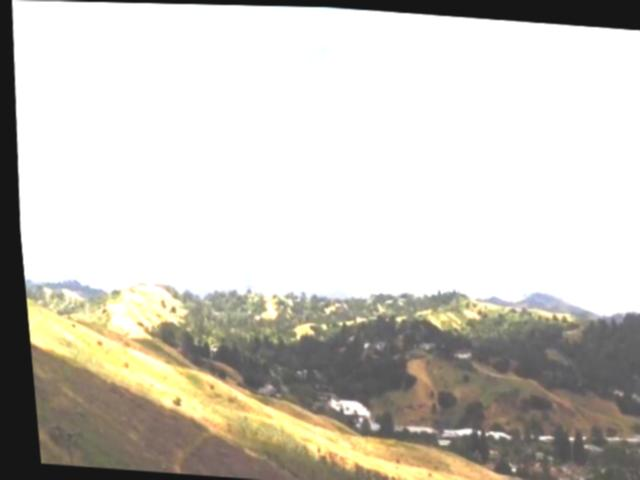iha: (347, 165, 378, 182)
